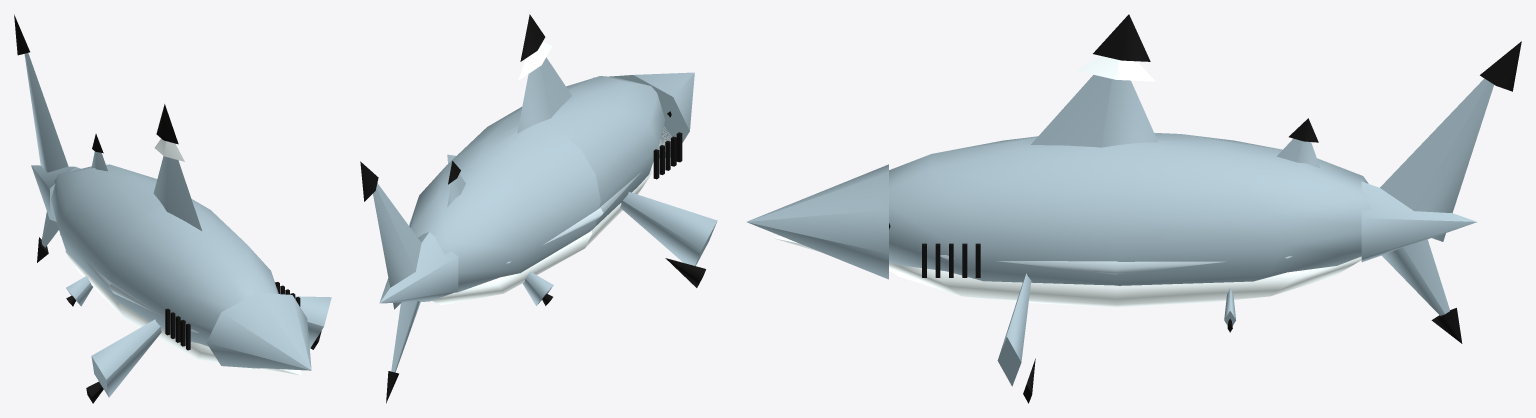
Rendered from reef-shark.glb.
3 views of the same model, side by side, from view 1: azimuth 30°, elevation 25°; view 2: azimuth 150°, elevation 25°; view 3: azimuth 270°, elevation 25° (orthographic). The views are drawn at different scales.
Parts seen in each view (by area): view 1: reef-shark, tail; view 2: reef-shark, tail; view 3: reef-shark, tail.
Part boxes in pixels (bbox=[...]): reef-shark: bbox=[51, 104, 331, 403]; tail: bbox=[14, 14, 80, 262]; reef-shark: bbox=[409, 14, 717, 305]; tail: bbox=[360, 161, 458, 403]; reef-shark: bbox=[747, 14, 1371, 403]; tail: bbox=[1361, 41, 1521, 343].
Bounding box in the file's own units: 1.62 × 1.63 × 3.48.
